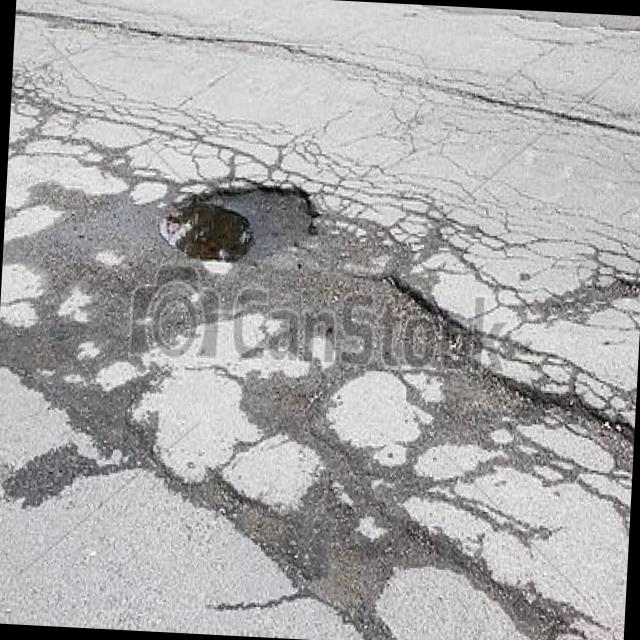Potholes: (110, 371, 636, 640), (155, 154, 337, 294)
